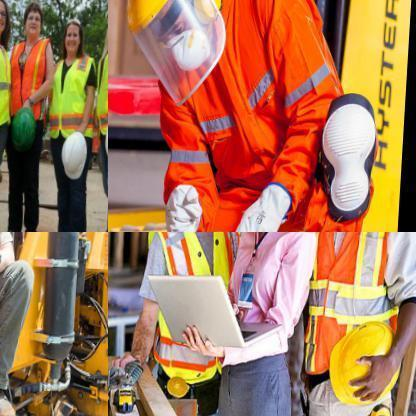vest: (144, 0, 340, 221), (298, 232, 408, 399), (131, 232, 247, 390), (52, 50, 100, 143), (8, 36, 53, 122), (0, 28, 16, 136), (94, 29, 107, 137)
